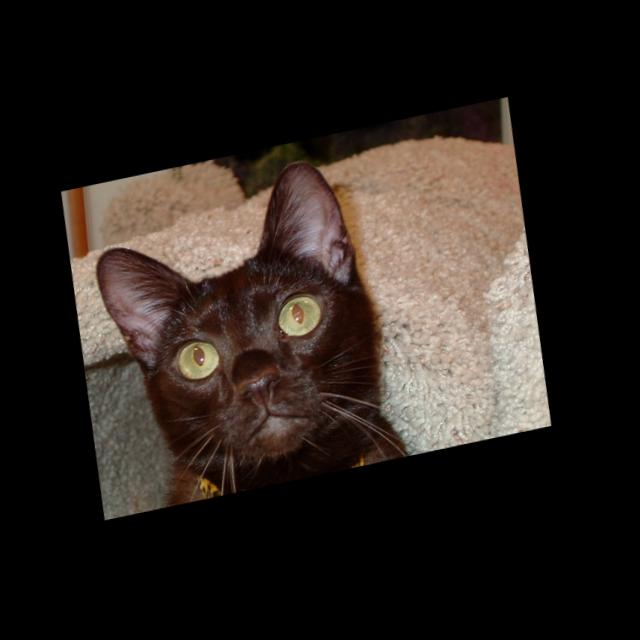animals: (90, 155, 381, 432)
